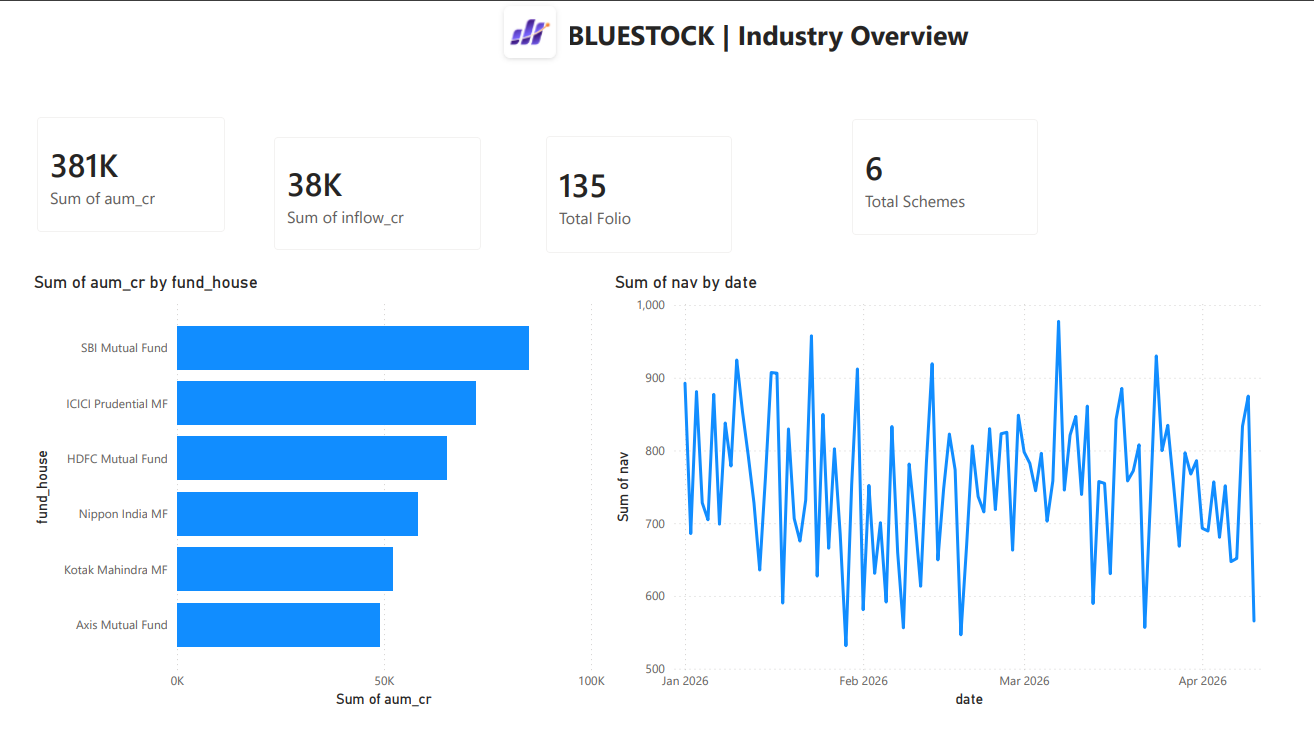

Layout of this report page (visuals, bound fields, positions):
{"tool":"powerbi","page":{"name":"Industry Overview ","canvas":[1280,720],"ordinal":0},"visuals":[{"type":"textbox","box":[10,0,280,280],"z":0},{"type":"textbox","box":[10,290,280,280],"z":1000},{"type":"textbox","box":[10,570,280,150],"z":2000},{"type":"textbox","box":[649.3,592.6,236.4,127.9],"z":3000},{"type":"textbox","box":[835.5,592.6,228.3,127.9],"z":4000},{"type":"textbox","box":[765.9,536,239.6,127.9],"z":5000},{"type":"textbox","box":[697.9,536,315.7,127.9],"z":6000},{"type":"clusteredBarChart","fields":{"Category":["03_aum_by_fund_house_clean.fund_house"],"Y":["Sum(03_aum_by_fund_house_clean.aum_cr)"]},"box":[9.4,279.7,580.2,440.3],"z":7000},{"type":"lineChart","fields":{"Category":["02_nav_history_clean.date"],"Y":["Sum(02_nav_history_clean.nav)"]},"box":[589.6,279.7,674.7,440.3],"z":8000},{"type":"textbox","box":[542.4,19.4,445.3,58.3],"z":9000},{"type":"image","box":[399.9,0,221.8,77.7],"z":10000},{"type":"cardVisual","fields":{"Data":["Sum(03_aum_by_fund_house_clean.aum_cr)"]},"box":[0,108.5,221.8,149],"z":11000},{"type":"cardVisual","fields":{"Data":["Sum(04_monthly_sip_inflows_clean.inflow_cr)"]},"box":[236.7,128.3,241.7,146.7],"z":12000},{"type":"cardVisual","fields":{"Data":["Sum(06_industry_folio_count_clean.folio_count_millions)"]},"box":[508.9,127.2,219.8,150.4],"z":13000},{"type":"cardVisual","fields":{"Data":["Count(01_fund_master_clean.scheme_name)"]},"box":[815.4,109.9,219.8,150.4],"z":14000}]}

Visuals, with their boxes in screenshot pixels (x1, y1, x2, y2), scaled from the page's 1280x720 canvas onto the 1314x732 screenshot:
textbox: locate(10, 0, 298, 285)
textbox: locate(10, 295, 298, 580)
textbox: locate(10, 580, 298, 731)
textbox: locate(667, 602, 909, 731)
textbox: locate(858, 602, 1092, 731)
textbox: locate(786, 545, 1032, 675)
textbox: locate(716, 545, 1041, 675)
clusteredBarChart - 03_aum_by_fund_house_clean.fund_house x Sum(03_aum_by_fund_house_clean.aum_cr): locate(10, 284, 605, 731)
lineChart - 02_nav_history_clean.date x Sum(02_nav_history_clean.nav): locate(605, 284, 1298, 731)
textbox: locate(557, 20, 1014, 79)
image: locate(411, 0, 638, 79)
cardVisual - Sum(03_aum_by_fund_house_clean.aum_cr): locate(0, 110, 228, 262)
cardVisual - Sum(04_monthly_sip_inflows_clean.inflow_cr): locate(243, 130, 491, 280)
cardVisual - Sum(06_industry_folio_count_clean.folio_count_millions): locate(522, 129, 748, 282)
cardVisual - Count(01_fund_master_clean.scheme_name): locate(837, 112, 1063, 265)
